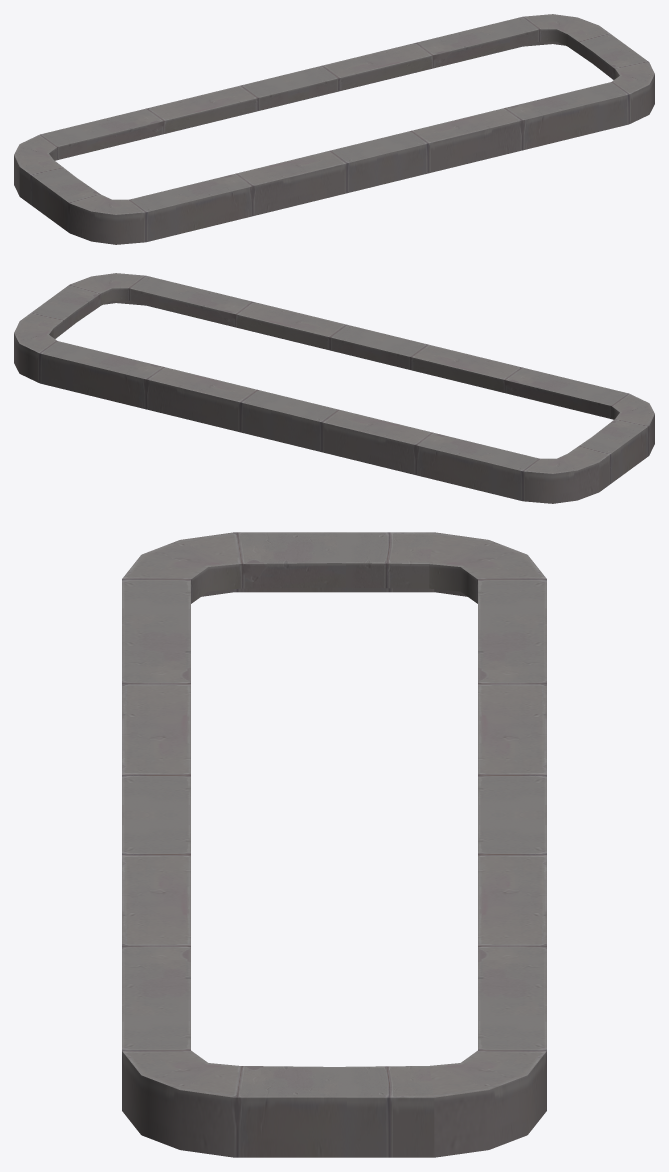
Rendered from scene_luoliante_baobian03.FBX.
The picture shows the model from 3 angles, top to bottom: view 1: azimuth 30°, elevation 25°; view 2: azimuth 150°, elevation 25°; view 3: azimuth 270°, elevation 25°; orthographic projection. The views are drawn at different scales.
Parts seen in each view (by area): view 1: scene_luoliante_baobian03; view 2: scene_luoliante_baobian03; view 3: scene_luoliante_baobian03.
Boxes of the visible parts, x1=… form: scene_luoliante_baobian03: x1=14, y1=14, x2=654, y2=244; scene_luoliante_baobian03: x1=14, y1=273, x2=654, y2=503; scene_luoliante_baobian03: x1=122, y1=532, x2=546, y2=1157.
Bounding box in the file's own units: 531 × 26.27 × 169.
1 material, 1 textured.
